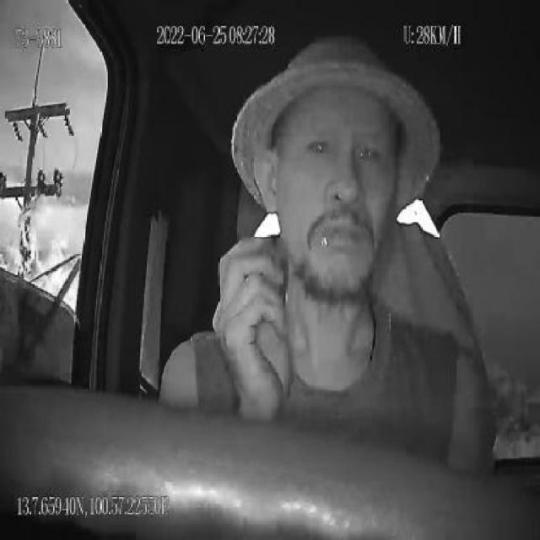smoking: (319, 219, 334, 249)
